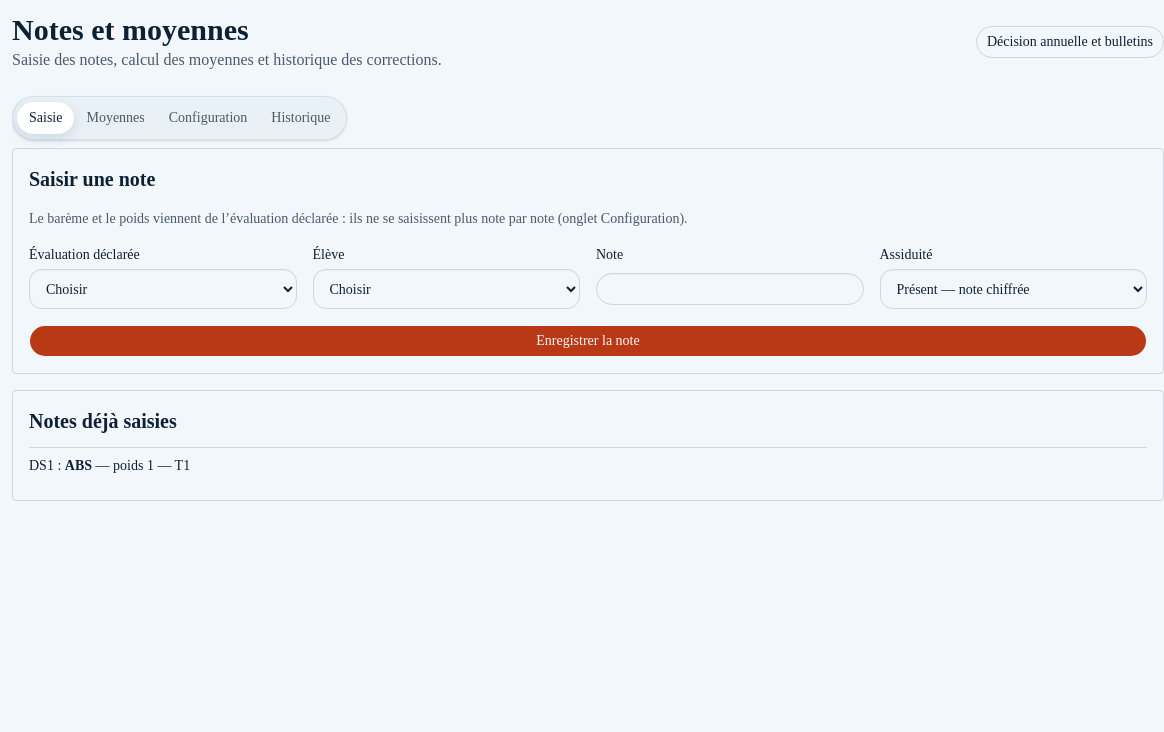
Test case: regroupe l’historique et les corrections dans le dernier onglet
Check: the text "Historique autorisé" is not shown
Click the tab "Historique".
click(301, 118)  # box [259,102,342,134]
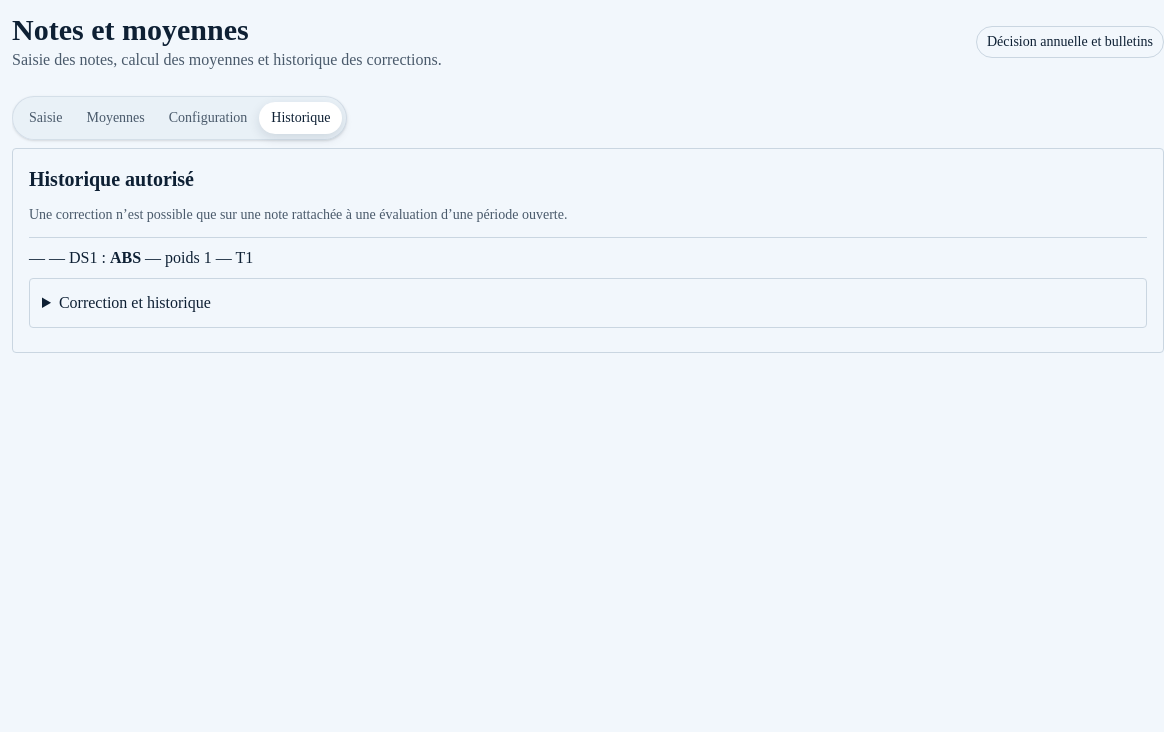
Check: the text "correction" is shown, box [12,51,442,68]
Check: the text "Historique autorisé" is shown, box [29,168,194,190]
